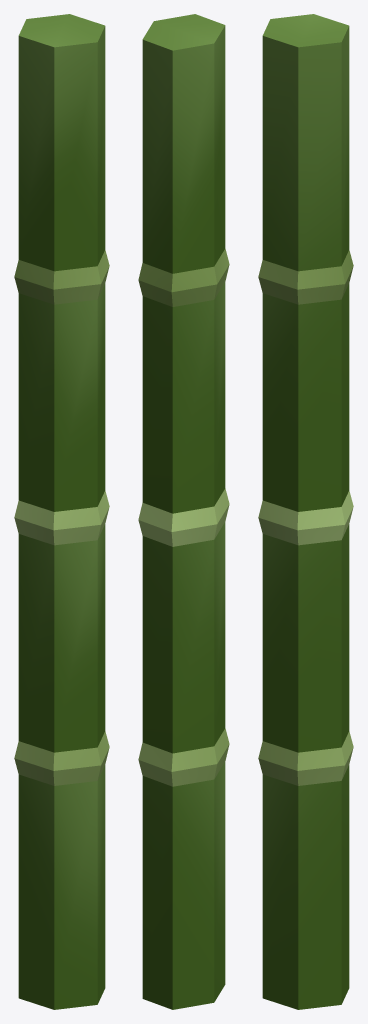
Rendered from Bamboo.fbx.
3 views of the same model, side by side, from view 1: azimuth 90°, elevation 25°; view 2: azimuth 150°, elevation 25°; view 3: azimuth 270°, elevation 25° (orthographic).
Visible parts, largest first — view 1: Bamboo; view 2: Bamboo; view 3: Bamboo.
Boxes of the visible parts, box(x1,y1,x2,y2) form: Bamboo: box(14, 14, 109, 1009); Bamboo: box(138, 14, 229, 1009); Bamboo: box(258, 14, 353, 1009).
Bounding box in the file's own units: 0.4907 × 6 × 0.5386.
1 material, 1 textured.
